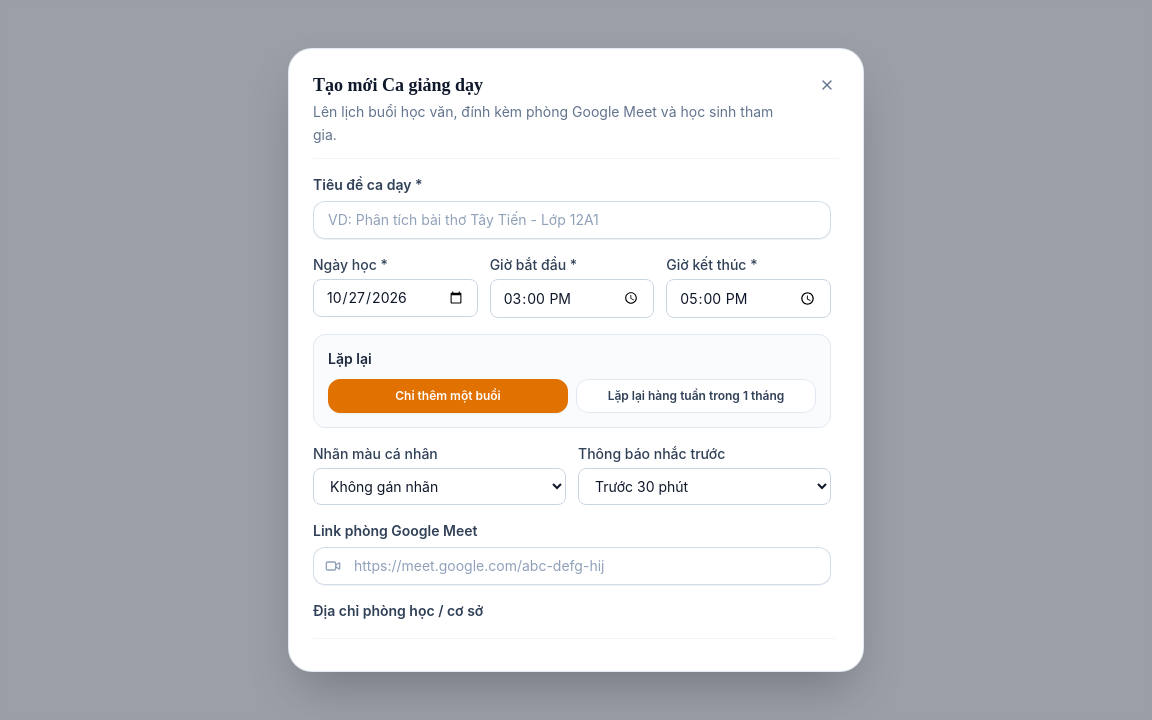
it: EventFormModal - Recurrence feature › shows explanation and 5 scheduled occurrences preview when choosing weekly recurrence for 27/10/2026
This screenshot has width=1152, height=720.
# Change end time to 16:30 for exact 90-minute session in prompt example
Replace the text in the time field labelled "Giờ kết thúc *" with "16:30" at (749, 299), box [666,279,831,318]
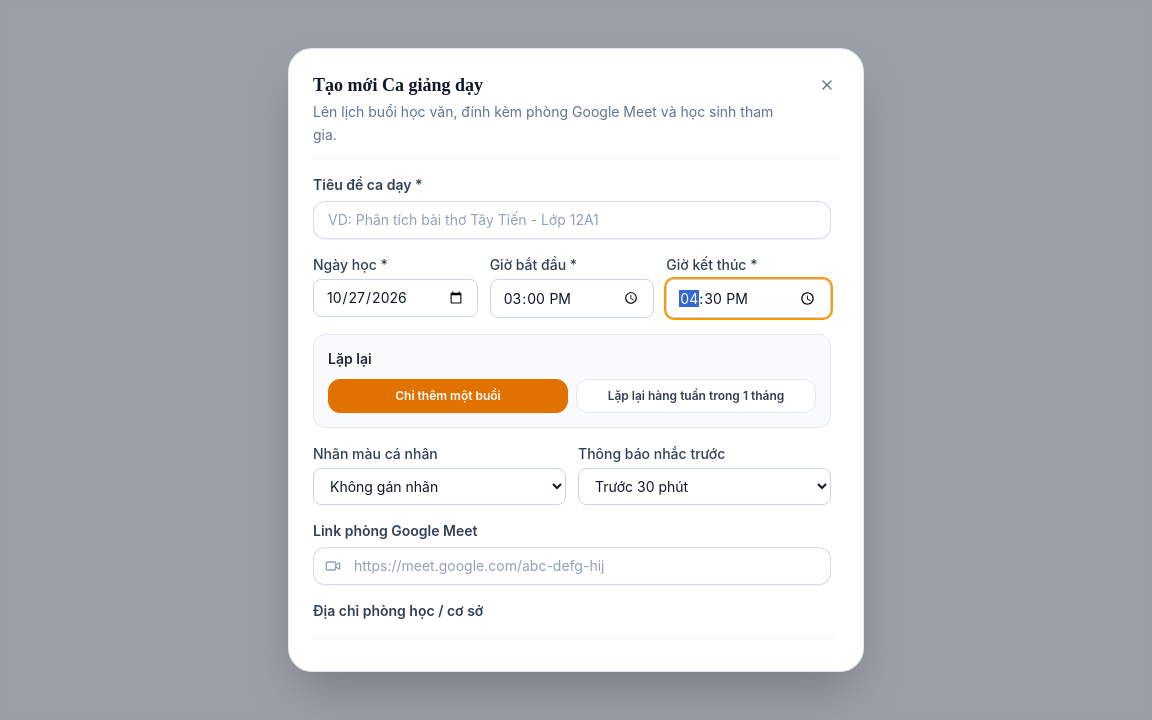
# Click "Lặp lại hàng tuần trong 1 tháng"
Click the button "Lặp lại hàng tuần trong 1 tháng".
click(696, 396)  # box [576,379,816,413]
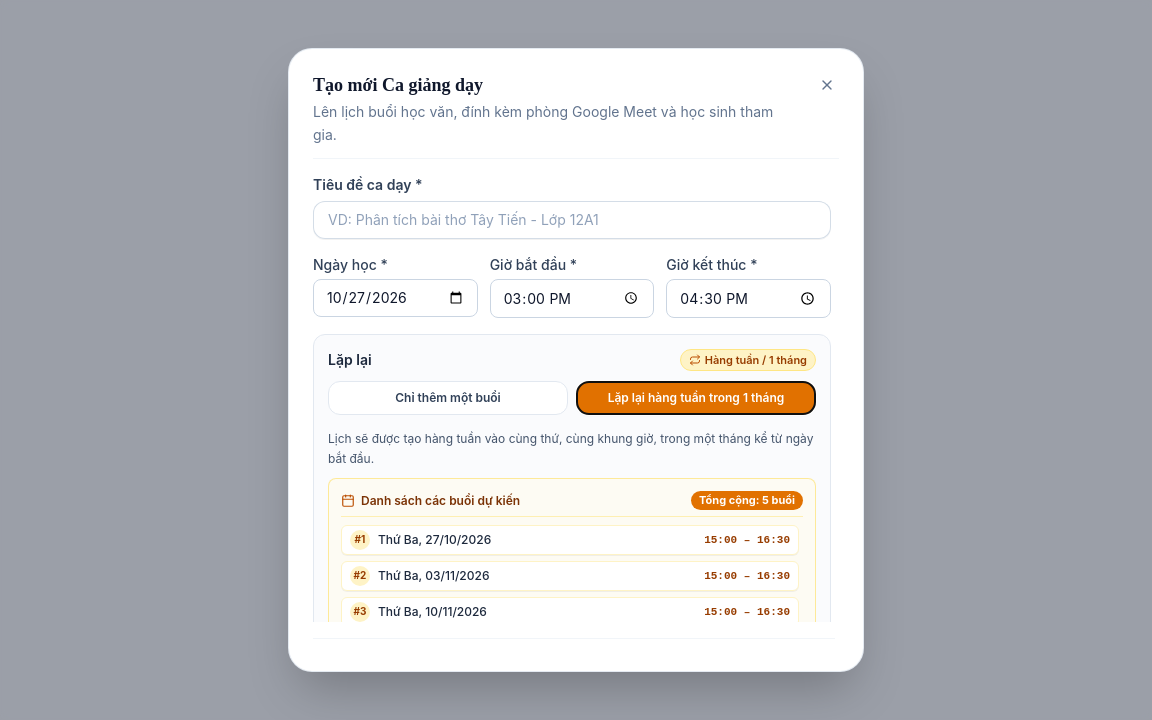
Expected: the text "Lịch sẽ được tạo hàng tuần vào cùng thứ, cùng khung giờ, trong một tháng" is shown, [328,431,813,466]
Expected: the text "Tổng cộng: 5 buổi" is shown, [691,491,803,510]
Expected: the text "27/10/2026" is shown, [378,532,491,547]
